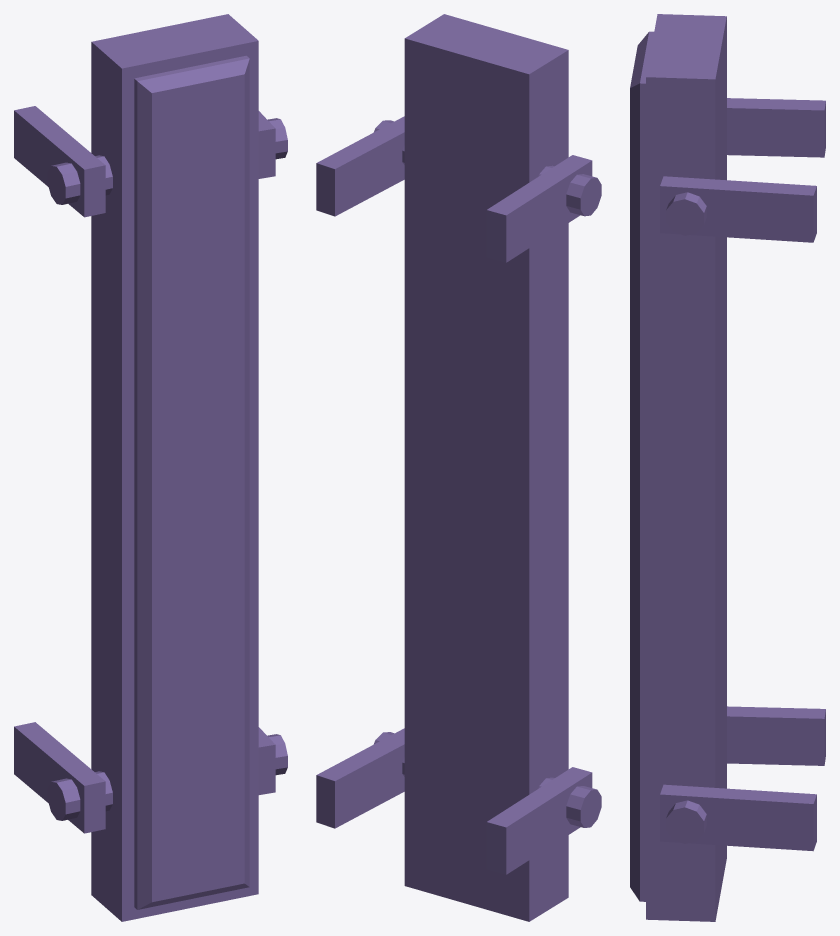
The model's file is Speakers_Theater.fbx.
The picture shows the model from 3 angles, left to right: view 1: azimuth 30°, elevation 25°; view 2: azimuth 150°, elevation 25°; view 3: azimuth 270°, elevation 25°; orthographic projection.
Visible parts, largest first — view 1: Speakers_Theater; view 2: Speakers_Theater; view 3: Speakers_Theater.
Part boxes in pixels (x1,y1,x2,y2): Speakers_Theater: (14, 14, 287, 921); Speakers_Theater: (316, 14, 601, 921); Speakers_Theater: (630, 14, 825, 921).
Bounding box in the file's own units: 23.79 × 88.02 × 18.56.
